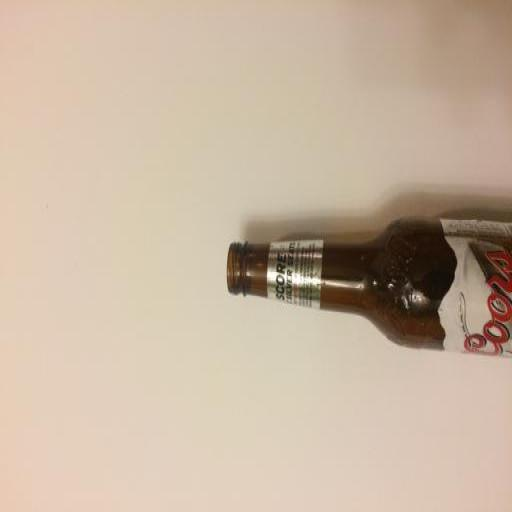glass bottle: (223, 212, 512, 357)
